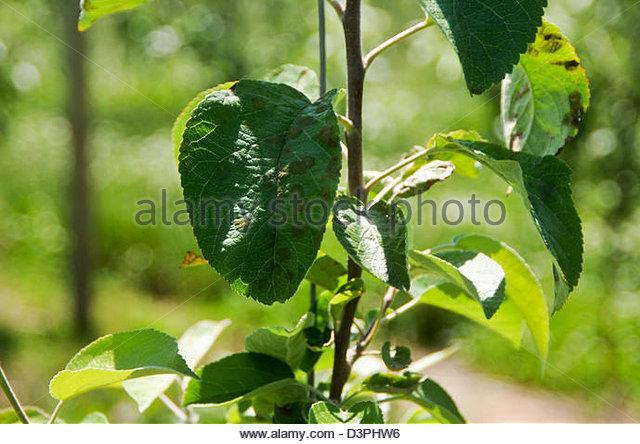Apple Scab Leaf: (180, 68, 387, 324), (436, 116, 640, 335), (491, 24, 600, 173)
